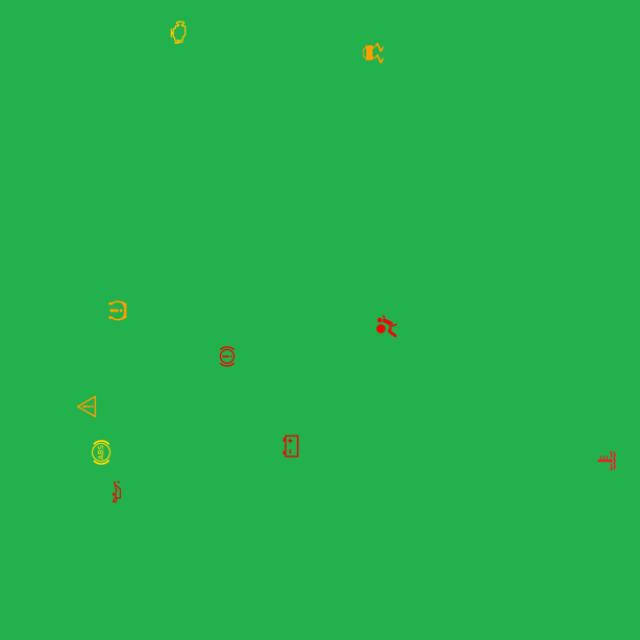Anti Lock Braking System: (88, 439, 114, 466)
Braking System Issue: (213, 343, 240, 370)
Charging System Issue: (278, 432, 304, 460)
Check Engine: (164, 19, 192, 46)
Electronic Stability Problem -ESP-: (359, 40, 386, 66)
Engine Overheating Warning Light: (593, 447, 620, 474)
Low Engine Oil Warning Light: (103, 478, 130, 506)
Low Tire Pressure Warning Light: (105, 297, 132, 324)
Master warning light: (73, 393, 100, 420)
SRS-Airbag: (373, 313, 400, 340)
